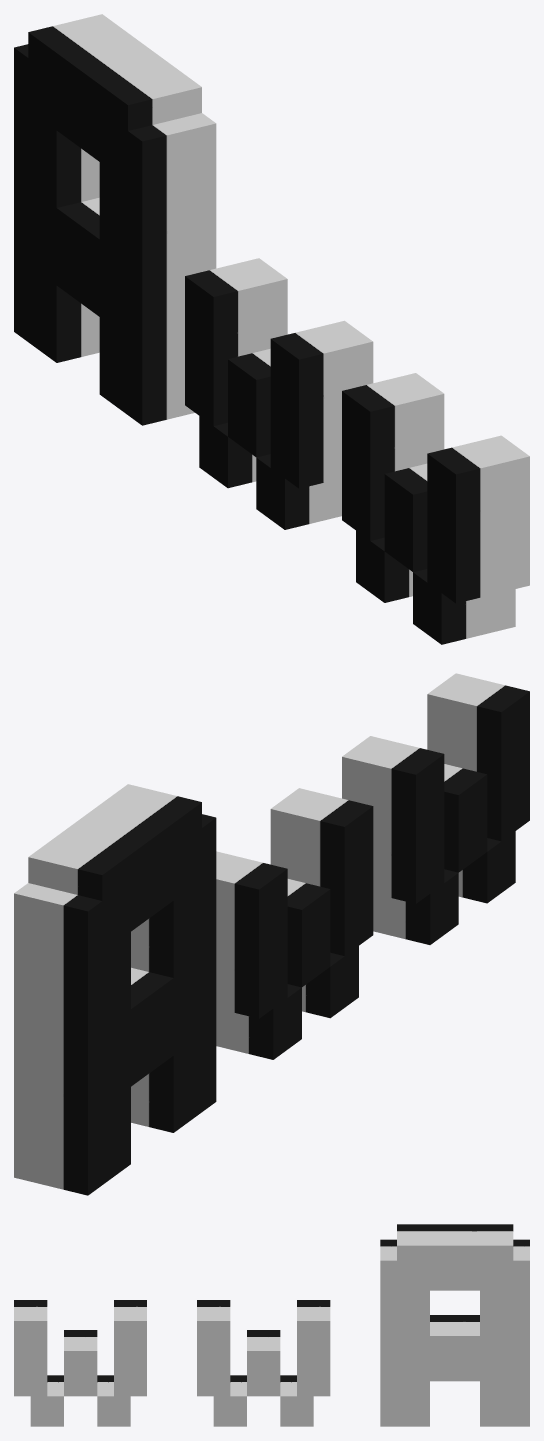
The model's file is AWW.fbx.
3 views of the same model, one above another, from view 1: azimuth 30°, elevation 25°; view 2: azimuth 150°, elevation 25°; view 3: azimuth 270°, elevation 25° (orthographic). The views are drawn at different scales.
Parts seen in each view (by area): view 1: Matrix; view 2: Matrix; view 3: Matrix.
Part boxes in pixels (bbox=[...]): Matrix: bbox=[14, 14, 529, 644]; Matrix: bbox=[14, 673, 529, 1195]; Matrix: bbox=[14, 1224, 529, 1426].
Size of the model in its own units: 6 by 24 by 62.
